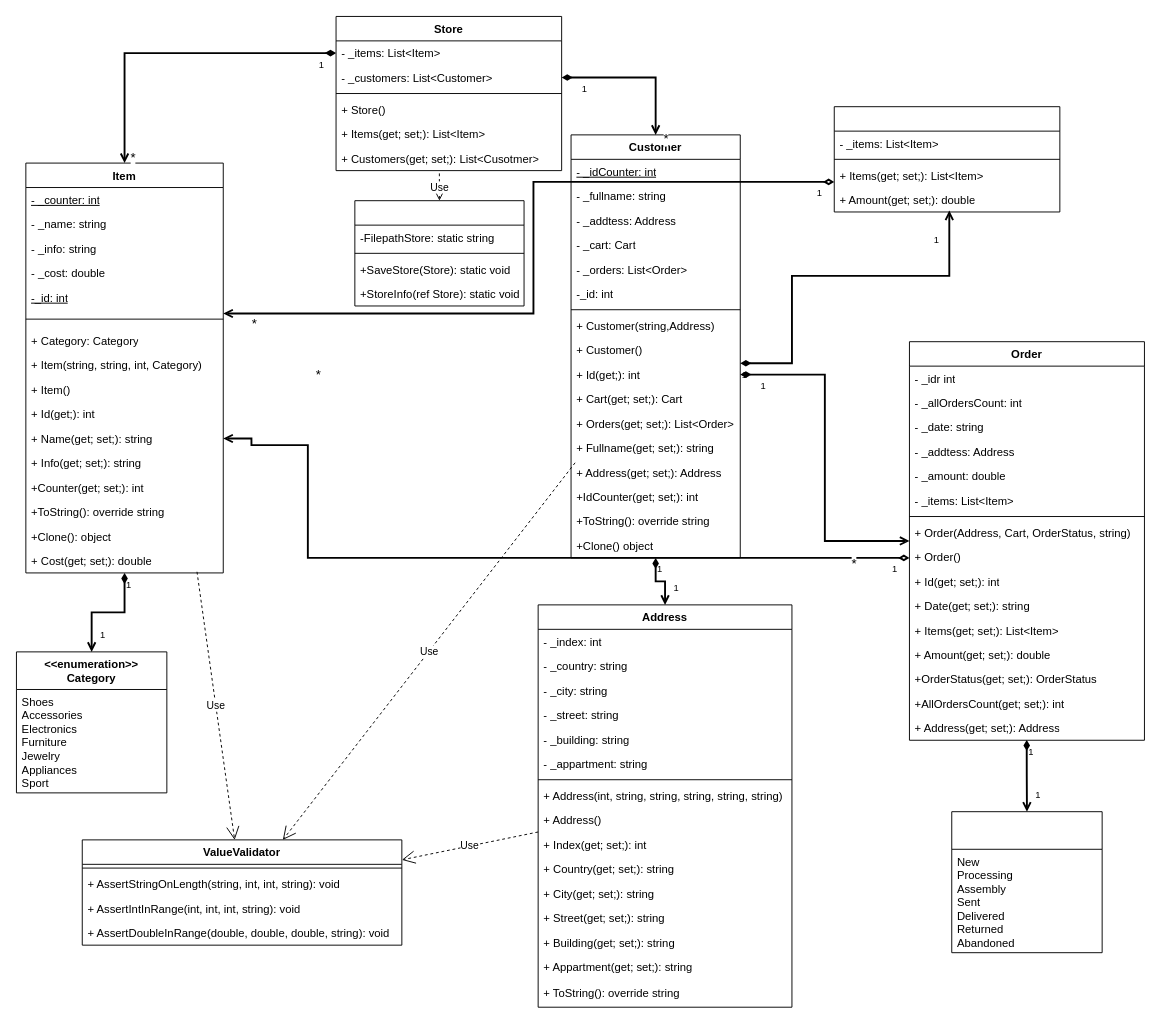
Image size: 1161x1026. Some labels were removed from this diagram. Each missing label, with the box of its shape:
<<enumeration>> OrderStatus: (951, 811, 1102, 953)
Cart: (833, 106, 1060, 212)
StoreSerializer: (354, 200, 524, 306)
